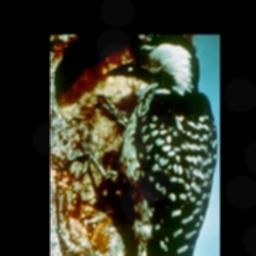Woodpecker: (60, 35, 217, 256)
